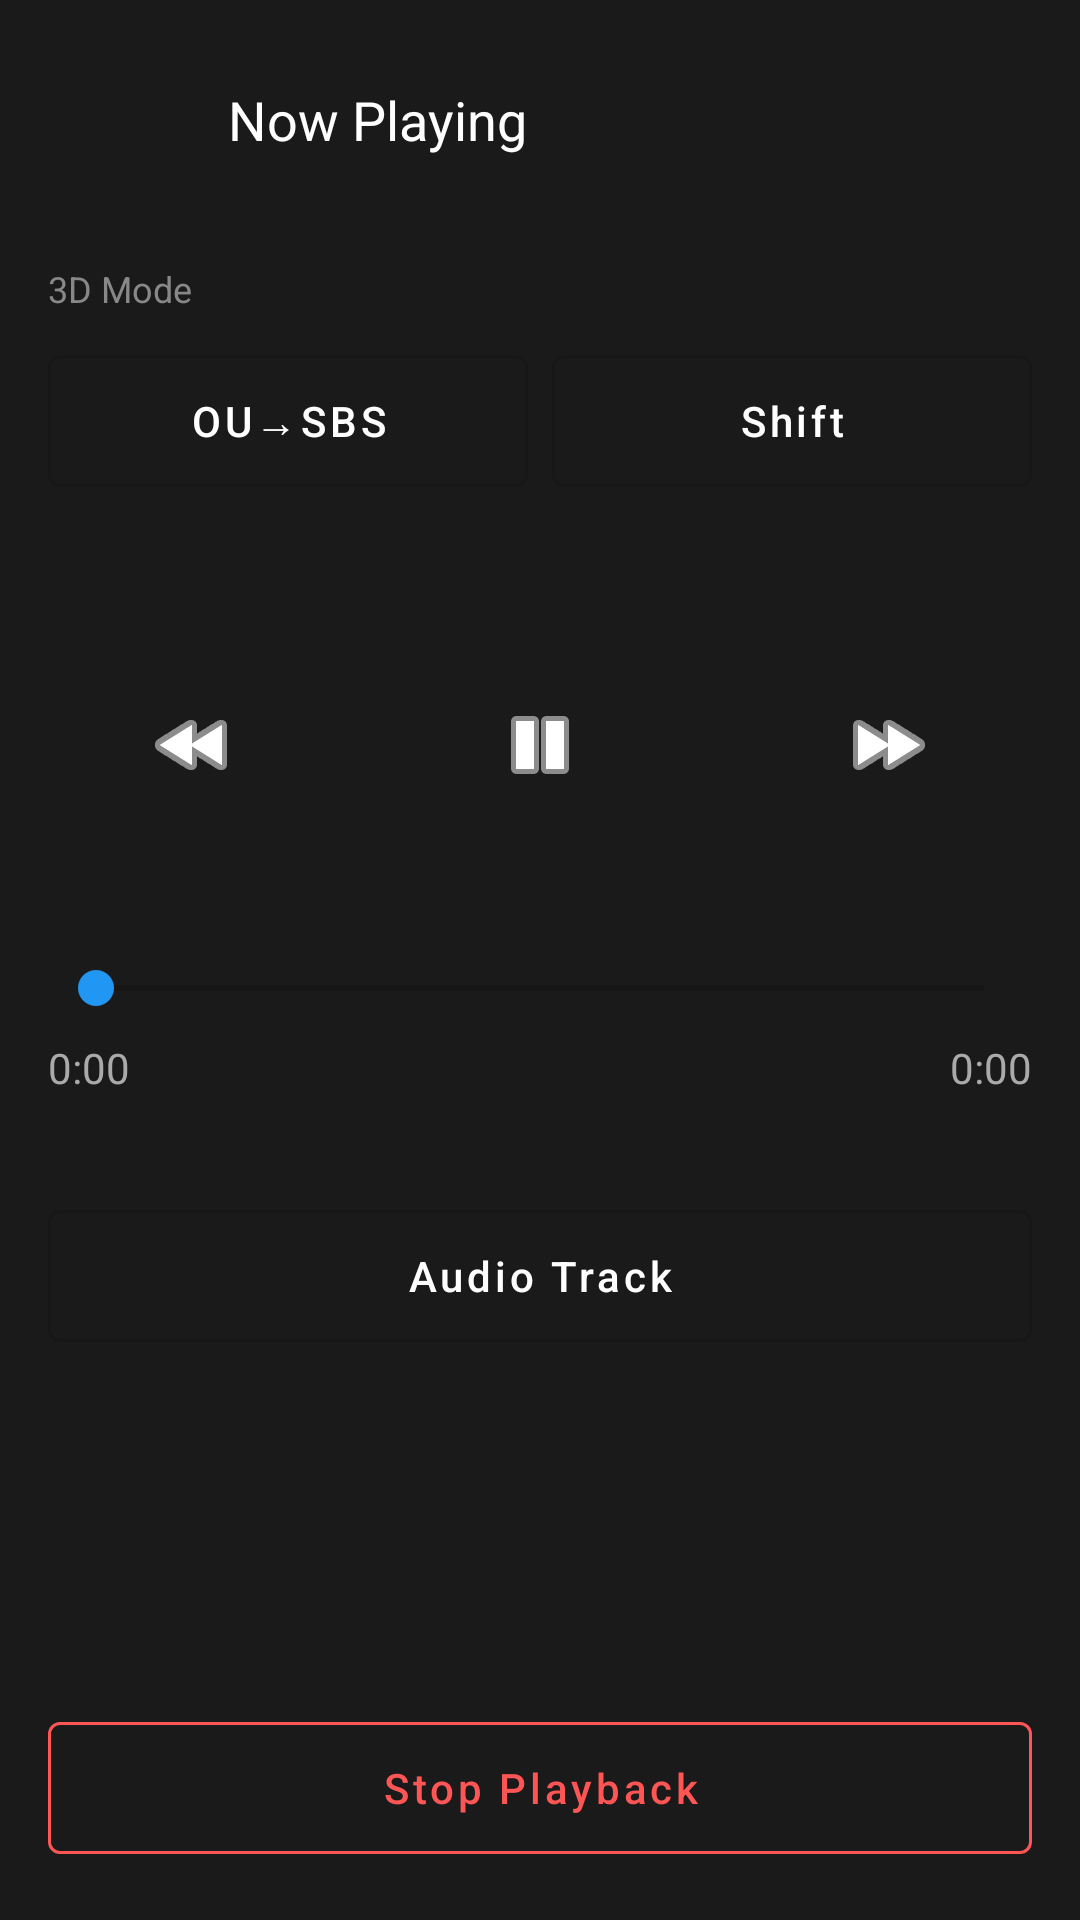

Screen size 1080x1920. Icon name, then its box in pixels as (x1, y1, x2, y2):
Forward 10s: (853, 720, 925, 770)
Play/Pause: (511, 716, 569, 774)
Rewind 10s: (155, 720, 227, 770)
